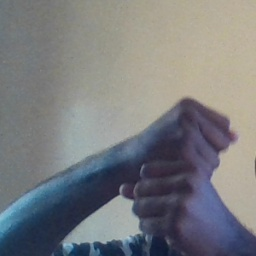G: (130, 91, 240, 240)
